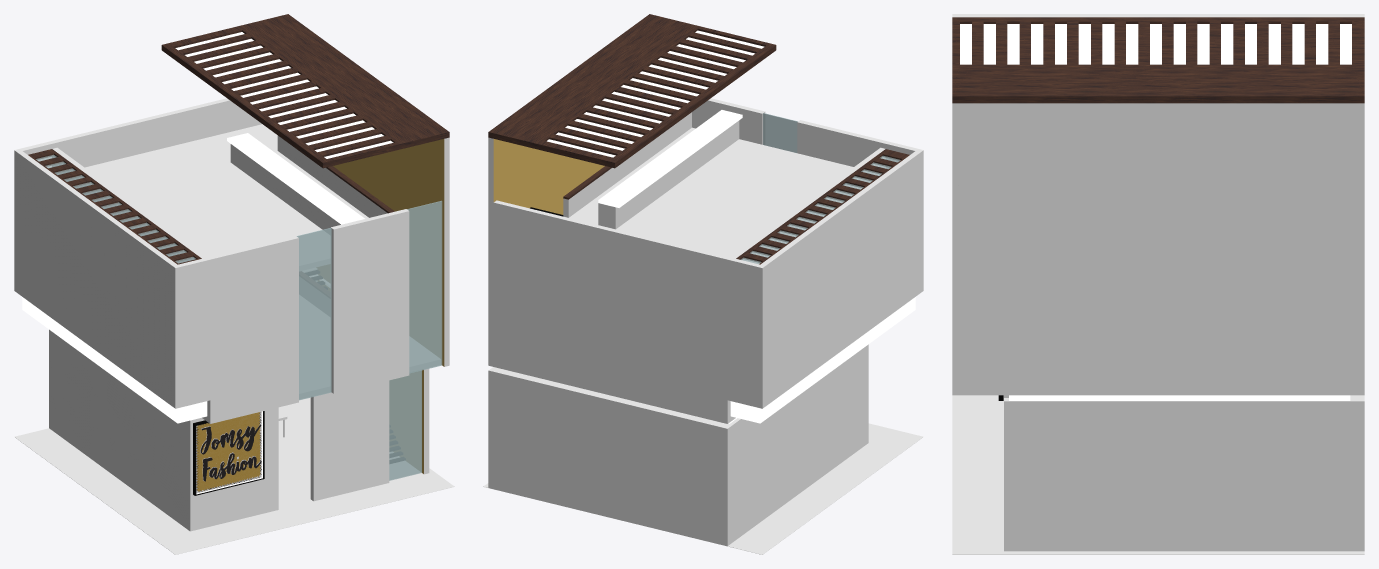
Rendered from jomsyfashion_building_009.glb.
3 views of the same model, side by side, from view 1: azimuth 30°, elevation 25°; view 2: azimuth 150°, elevation 25°; view 3: azimuth 270°, elevation 25° (orthographic). The views are drawn at different scales.
Parts seen in each view (by area): view 1: P1_extwall, P0_extwall, RF_pergola, P2_floor, P0_plot_floor, P1_glass_01, P1_glass_02, P0_jomsyfashion_ext, RF_emissive_interpergola, P0_glass_01, P2_wood_pergola, P2_countertop (+6 smaller); view 2: P1_extwall, P0_extwall, RF_pergola, P2_floor, P0_plot_floor, RF_emissive_interpergola, P2_wood_pergola, P2_countertop, P2_railing_03, P1_emission_extcube, P2_railing_01, P2_railing_02 (+2 smaller); view 3: P1_extwall, P0_extwall, RF_pergola, P0_plot_floor, RF_emissive_interpergola, P1_emissive_entrepisos.
Part boxes in pixels (x1,y1,x2,y2): P1_extwall: (14, 98, 449, 423); P0_extwall: (49, 329, 429, 531); RF_pergola: (161, 14, 449, 168); P2_floor: (85, 124, 368, 257); P0_plot_floor: (14, 397, 454, 554); P1_glass_01: (407, 200, 442, 373); P1_glass_02: (296, 228, 331, 400); P0_jomsyfashion_ext: (193, 411, 264, 495); RF_emissive_interpergola: (175, 32, 393, 158); P0_glass_01: (389, 370, 421, 480); P2_wood_pergola: (28, 149, 201, 264); P2_countertop: (227, 133, 364, 224); P1_extwall: (488, 98, 923, 423); P0_extwall: (488, 344, 868, 546); RF_pergola: (488, 14, 776, 168); P2_floor: (569, 127, 853, 257); P0_plot_floor: (483, 423, 923, 554); RF_emissive_interpergola: (547, 30, 764, 157); P2_wood_pergola: (736, 149, 909, 264); P2_countertop: (598, 110, 742, 207); P2_railing_03: (598, 120, 739, 229); P1_emission_extcube: (730, 297, 915, 423); P2_railing_01: (563, 112, 691, 217); P2_railing_02: (731, 147, 885, 263); P1_extwall: (952, 14, 1364, 395); P0_extwall: (1004, 395, 1364, 551); RF_pergola: (952, 17, 1364, 103); P0_plot_floor: (952, 395, 1364, 554); RF_emissive_interpergola: (960, 24, 1351, 64); P1_emissive_entrepisos: (1009, 395, 1350, 400).
Size of what is drawn, in the model's own units: 16 by 19.49 by 16.
Materials: 10 (8 with a texture image).
